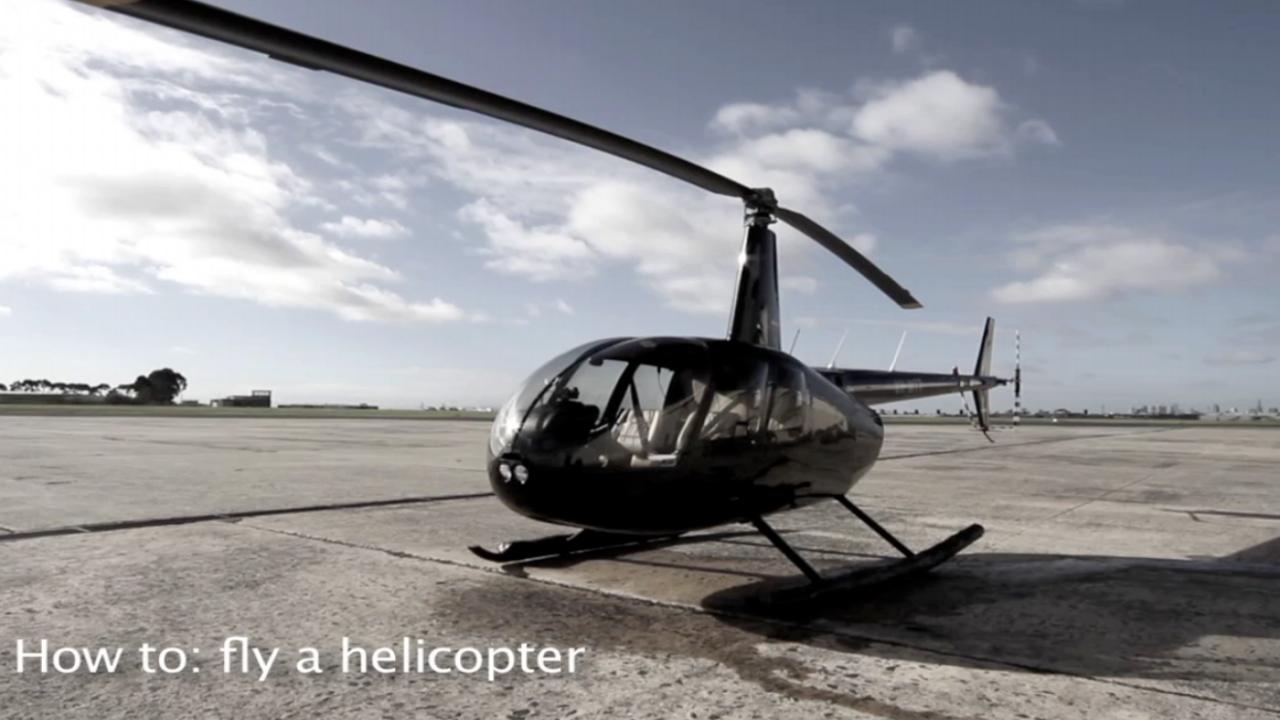Helicopter: (49, 0, 1041, 650)
